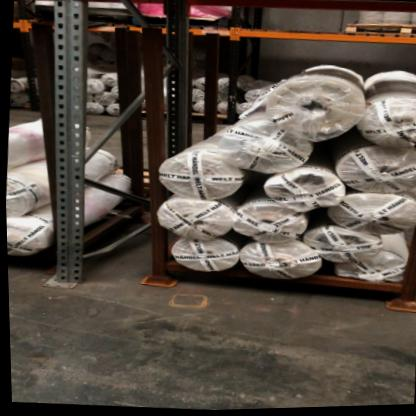vertical_damage: (36, 248, 93, 298)
